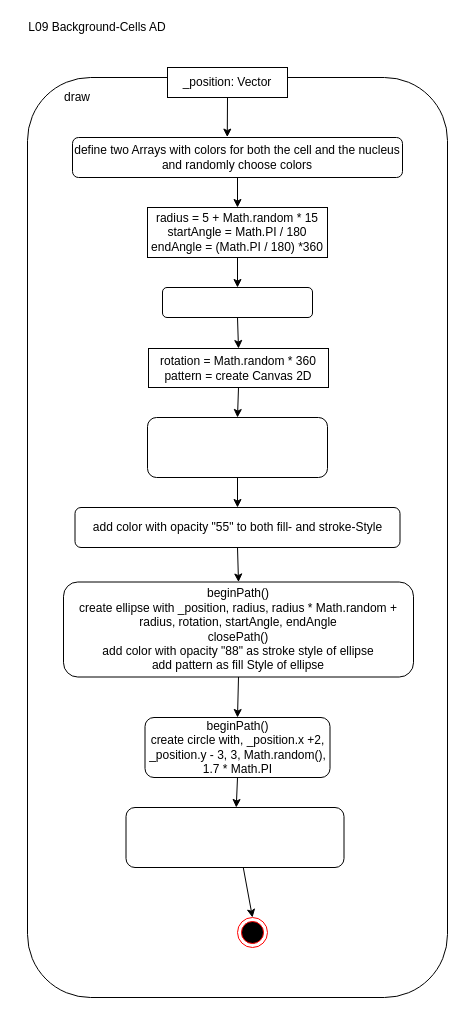
Image size: 465x1015. Some labels were removed from this diagram. Each missing label, with the centre of its shape:
closePath() add color for nucleus with opacity "33": (234,837)
create shadow for the cells: (237,302)
pattern.width and height = 2; create small dots on the pattern to create texture: (237,447)
